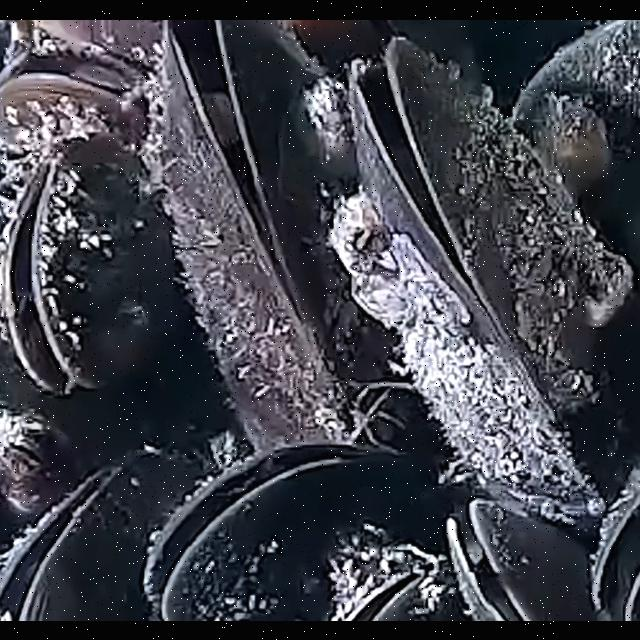Oyster-Closed: (506, 19, 640, 274)
Oyster-Open: (326, 34, 640, 524), (139, 19, 403, 455), (138, 438, 412, 620), (0, 138, 162, 394), (0, 446, 210, 620), (0, 36, 156, 182), (442, 496, 596, 620), (588, 466, 640, 620), (336, 558, 432, 620)
